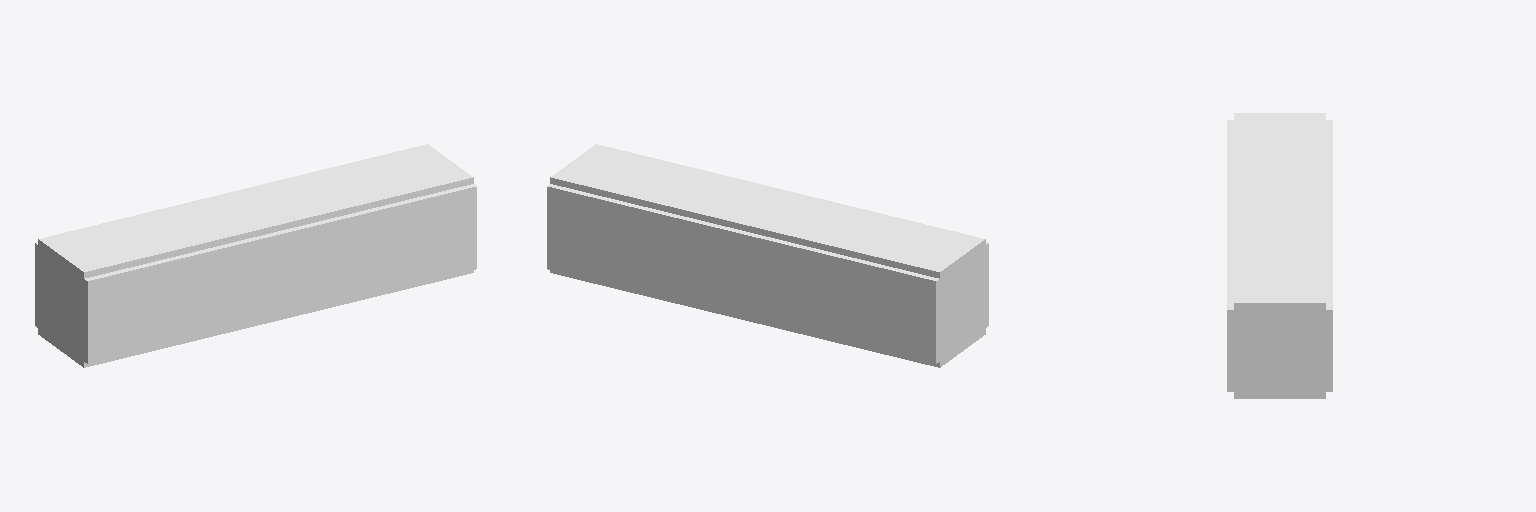
The model's file is MazeBlock_norm_01.obj.
The picture shows the model from 3 angles: view 1: azimuth 30°, elevation 25°; view 2: azimuth 150°, elevation 25°; view 3: azimuth 270°, elevation 25°; orthographic projection.
Parts seen in each view (by area): view 1: object 1; view 2: object 1; view 3: object 1.
Part boxes in pixels (x1,y1,x2,y2): object 1: (35, 144, 476, 367); object 1: (547, 144, 988, 367); object 1: (1227, 113, 1332, 398).
Size of the model in its own units: 6.4 by 1.5 by 1.5.